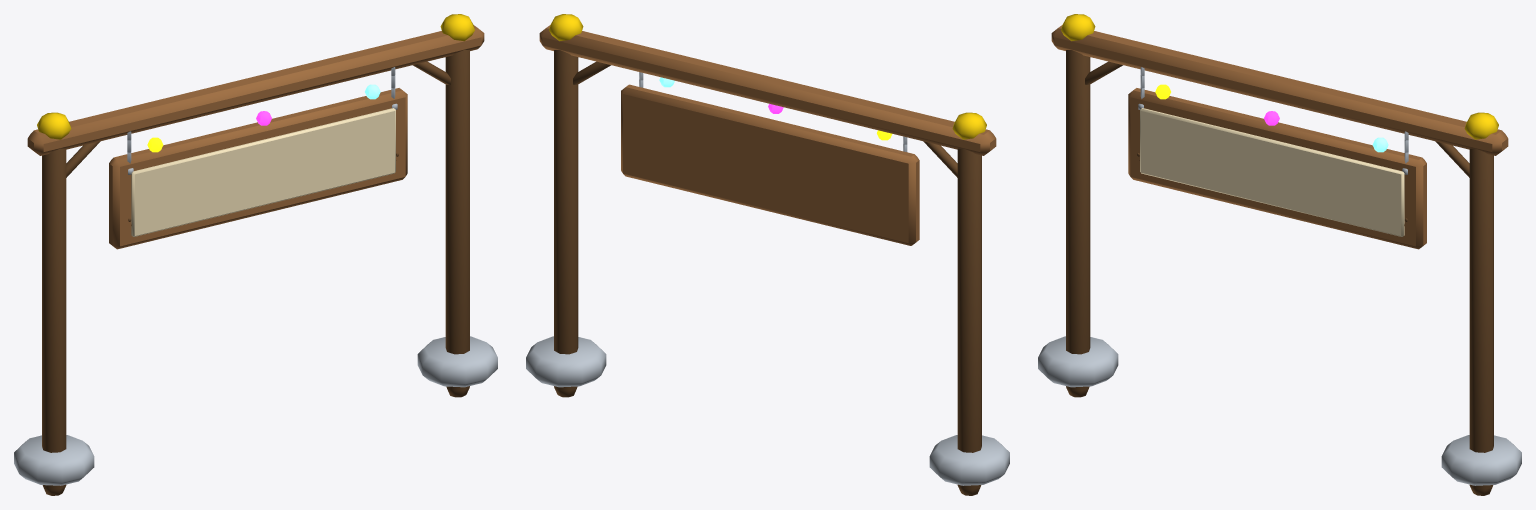
File: Tutorial_HangingSign.fbx
3 renders of one model, left to right at view 1: azimuth 30°, elevation 25°; view 2: azimuth 150°, elevation 25°; view 3: azimuth 330°, elevation 25°, orthographic.
Visible parts, largest first — view 1: Static, Board; view 2: Static, Board; view 3: Static, Board.
Part boxes in pixels (box(x1,y1,x2,y2)): Static: box(14, 14, 497, 495); Board: box(109, 88, 407, 249); Static: box(526, 14, 1009, 495); Board: box(621, 84, 919, 245); Static: box(1038, 14, 1521, 495); Board: box(1128, 88, 1426, 249).
Size of the model in its own units: 6.1 by 4.7 by 0.856.
